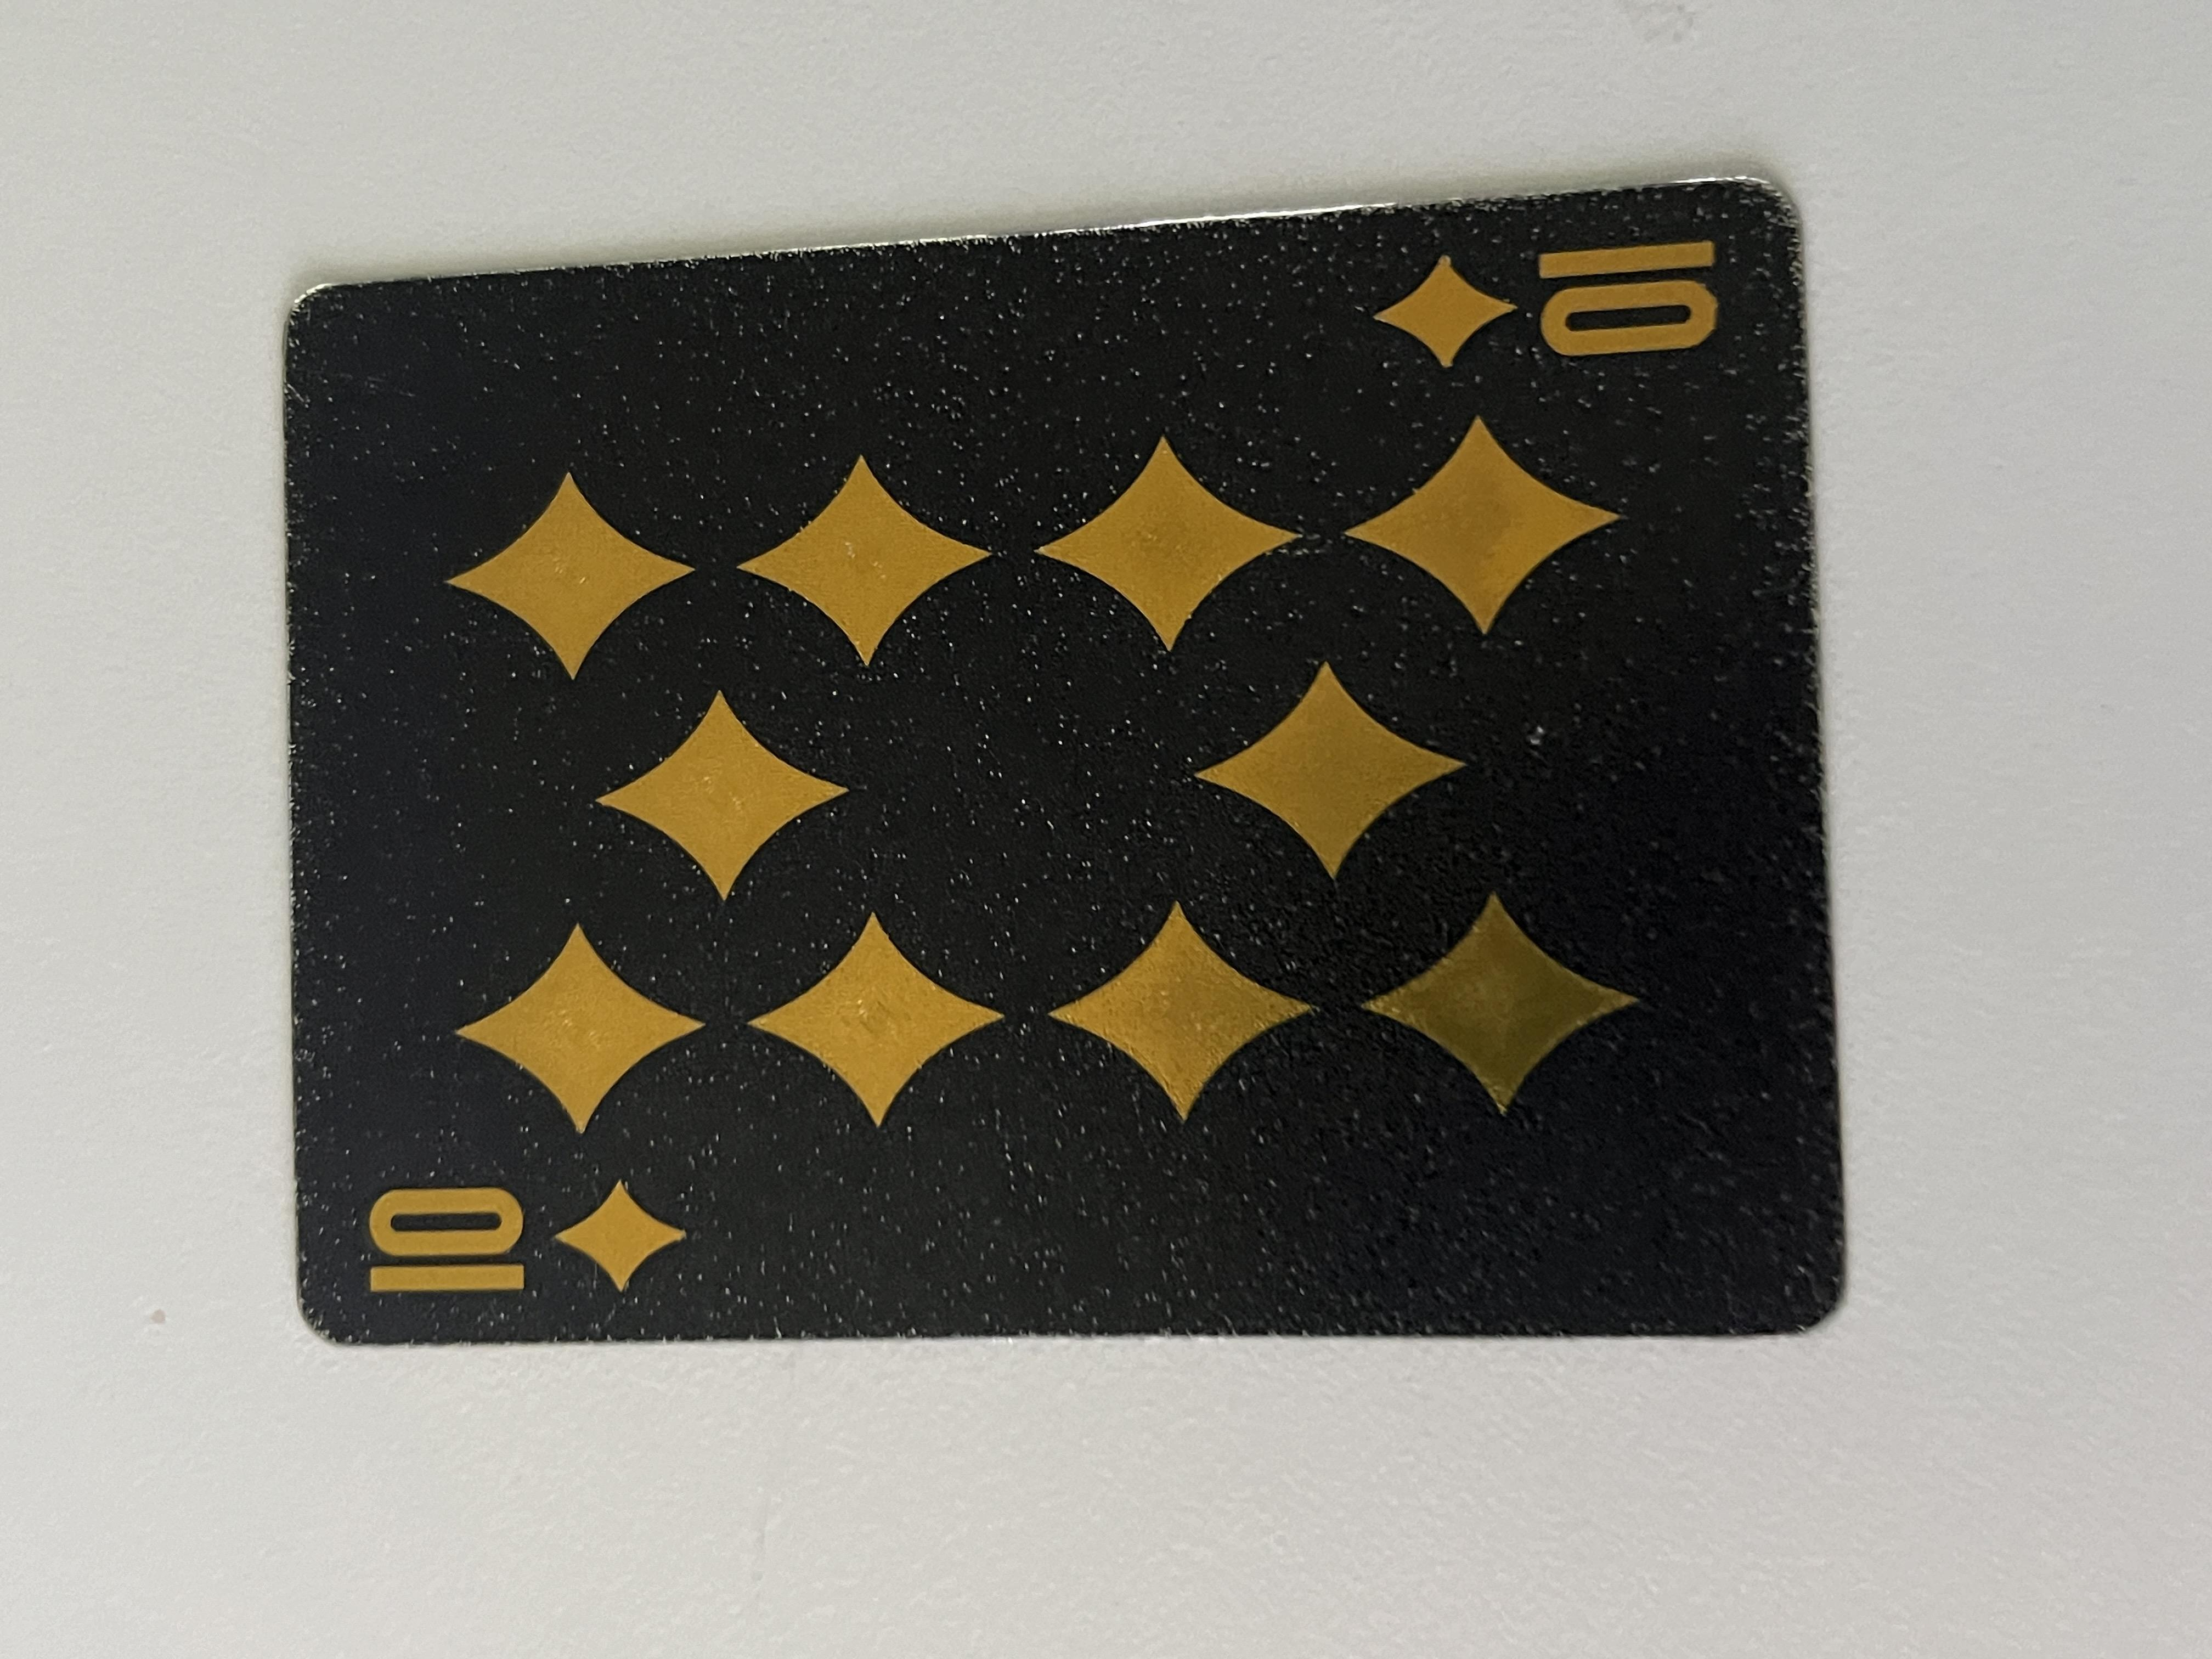10D: (1679, 1014, 1935, 1307), (446, 267, 681, 521)
